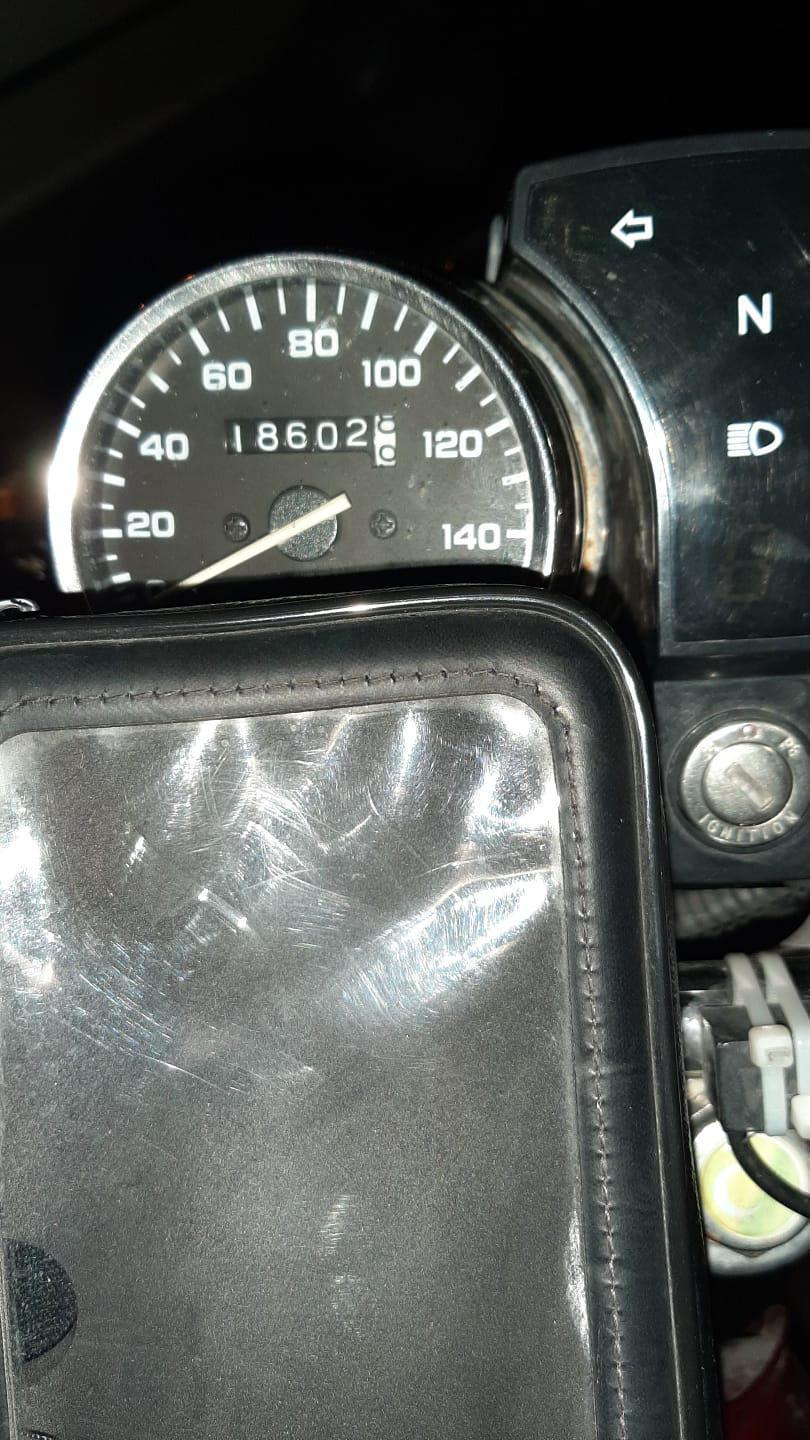0: (314, 419, 339, 452)
1: (227, 417, 246, 459)
2: (343, 415, 369, 455)
6: (285, 416, 308, 460)
8: (254, 419, 278, 457), (377, 413, 398, 441)
9: (378, 444, 398, 471)
odometer: (218, 412, 404, 472)
